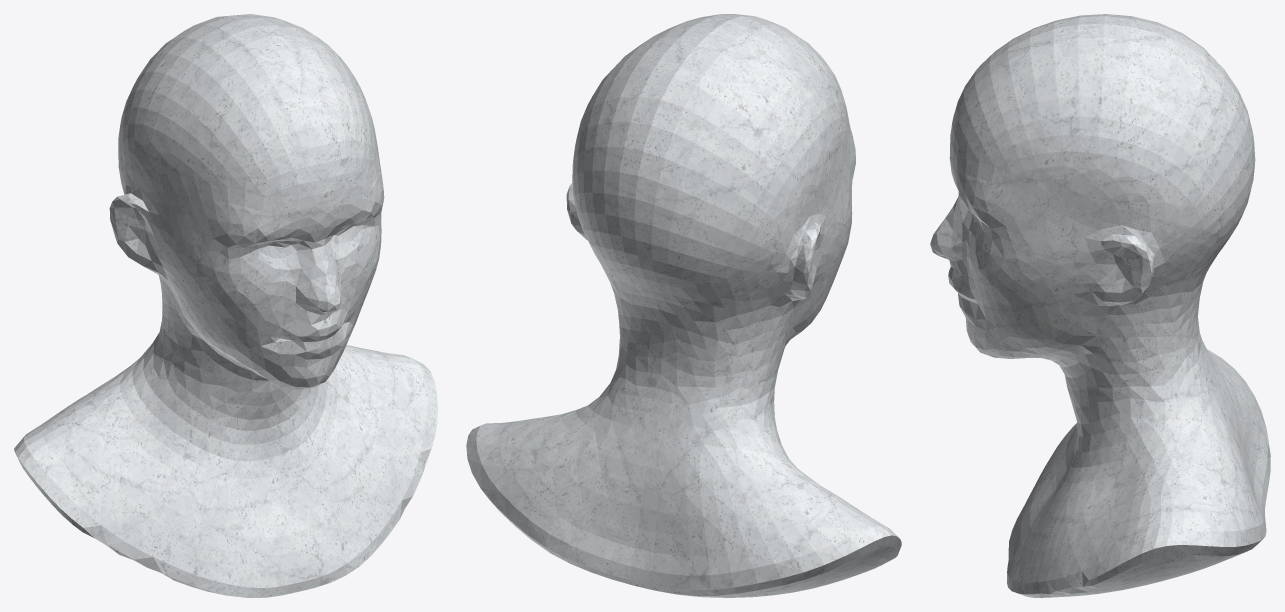
3 renders of one model, left to right at view 1: azimuth 30°, elevation 25°; view 2: azimuth 150°, elevation 25°; view 3: azimuth 270°, elevation 25°, orthographic. The views are drawn at different scales.
Parts seen in each view (by area): view 1: 1.1; view 2: 1.1; view 3: 1.1.
Boxes of the visible parts, box(x1,y1,x2,y2) form: 1.1: box(14, 14, 437, 597); 1.1: box(466, 14, 901, 597); 1.1: box(930, 14, 1270, 597).
Size of the model in its own units: 28.63 by 36.41 by 20.48.
Materials: 1 (1 with a texture image).
